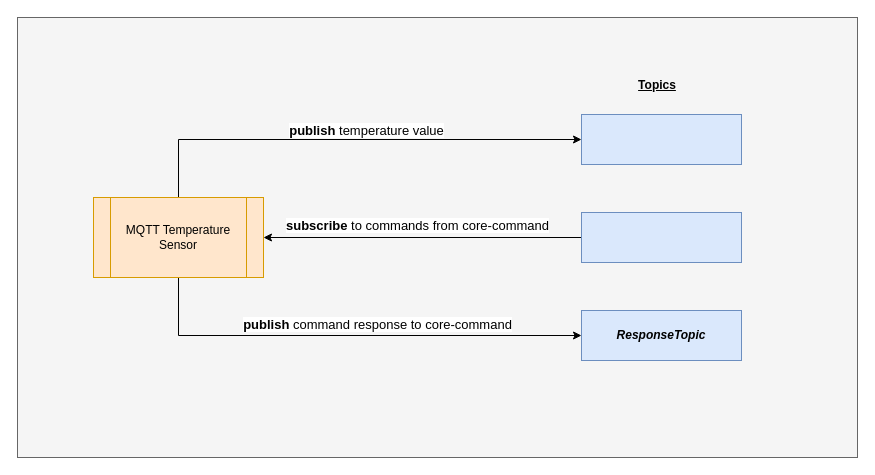
Some shapes in this 875 by 475 pixel diagram are drawn without their labels. The centre of each missing label's shape, as x and y in pixels:
CommandTopic: point (661, 237)
DataTopic: point (661, 139)
